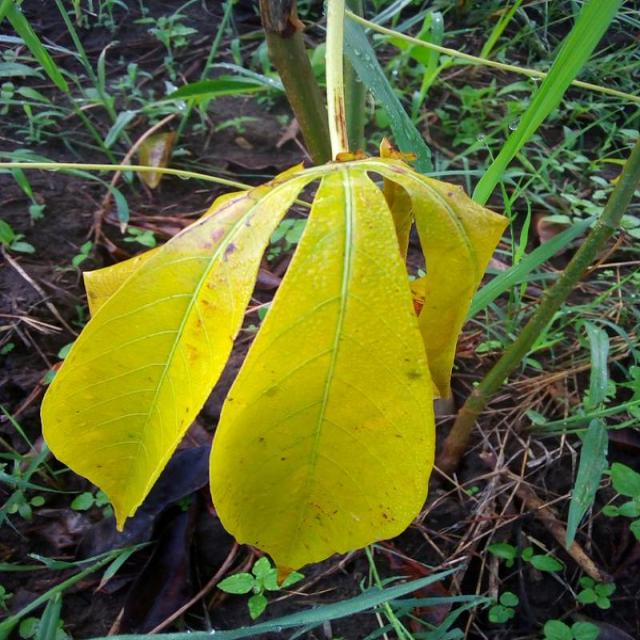cassava leaf: (38, 160, 312, 532), (207, 158, 438, 583)
